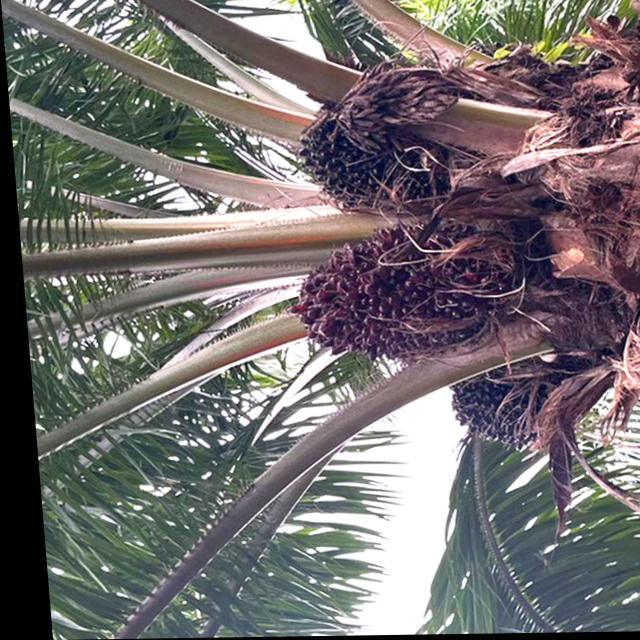ripe: (270, 233, 493, 370), (281, 112, 431, 214), (436, 380, 544, 453)
